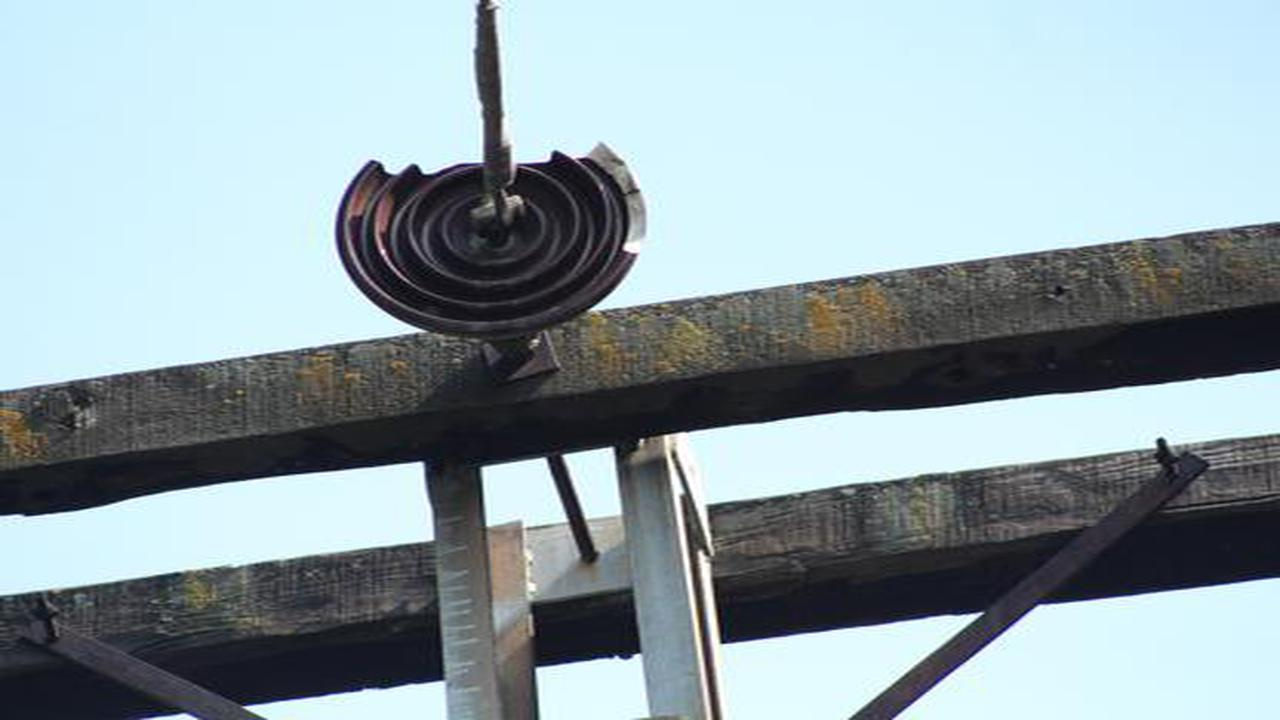defect_disc: (331, 138, 654, 346)
